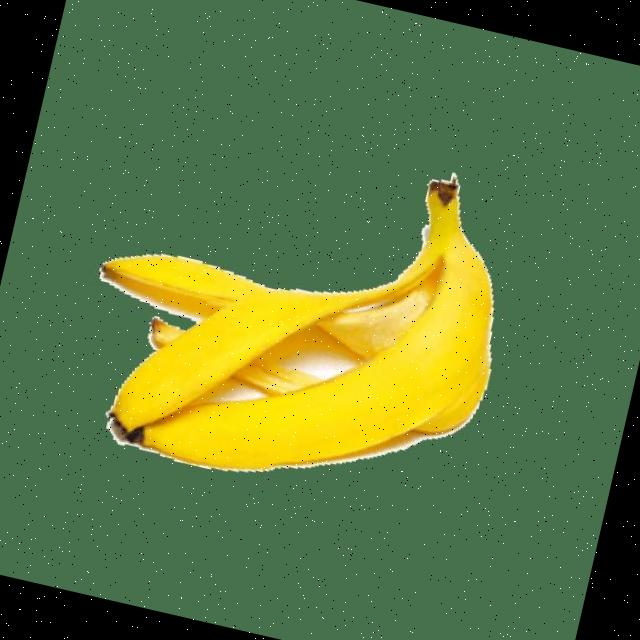banana-peel: (60, 98, 532, 526)
